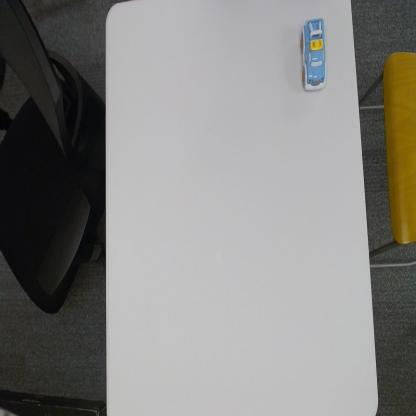Car: (298, 15, 327, 94)
